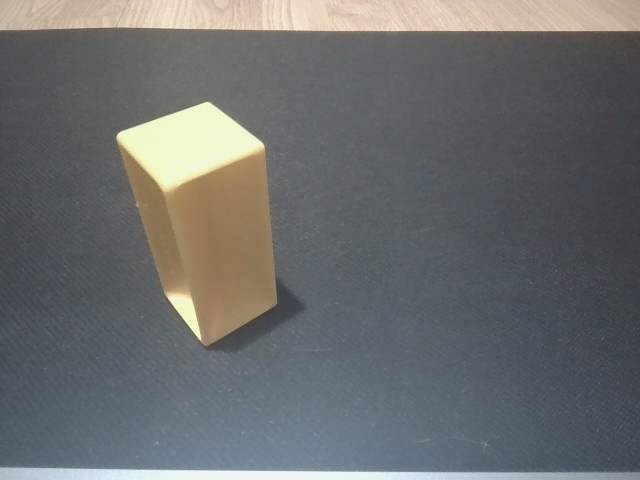YellowSample: (109, 98, 283, 350)
